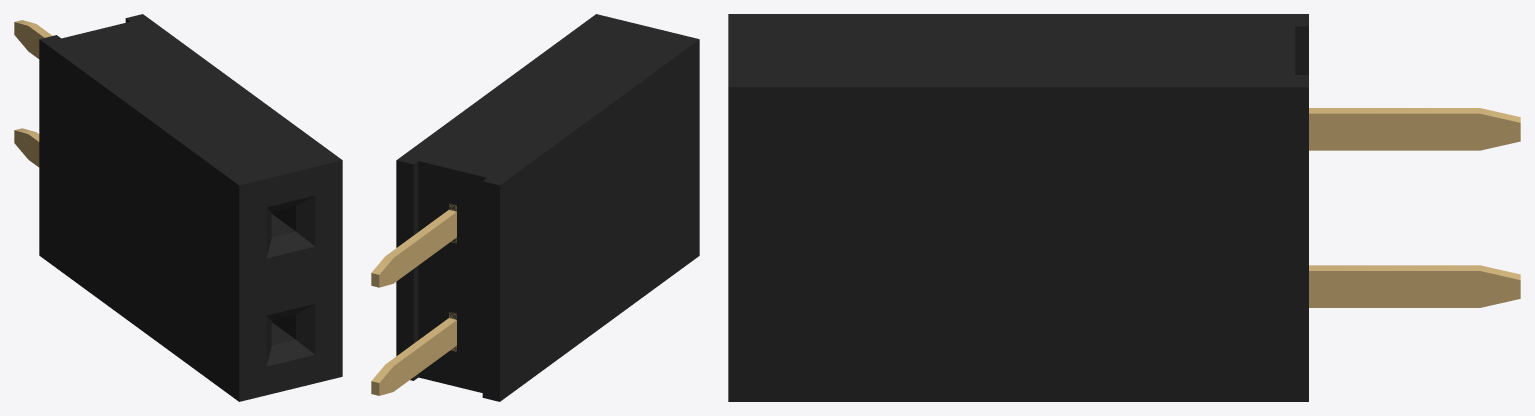
The model's file is socket-1x02.glb.
3 renders of one model, left to right at view 1: azimuth 30°, elevation 25°; view 2: azimuth 150°, elevation 25°; view 3: azimuth 270°, elevation 25°, orthographic. The views are drawn at different scales.
Parts seen in each view (by area): view 1: IC-BODY-EPOXY-04, PIN-02; view 2: IC-BODY-EPOXY-04, PIN-02; view 3: IC-BODY-EPOXY-04, PIN-02.
Boxes of the visible parts, <box> form: IC-BODY-EPOXY-04: <box>39,14,342,401</box>; PIN-02: <box>14,20,52,167</box>; IC-BODY-EPOXY-04: <box>396,14,699,401</box>; PIN-02: <box>371,203,456,395</box>; IC-BODY-EPOXY-04: <box>728,14,1308,401</box>; PIN-02: <box>1309,108,1520,307</box>.
Size of the model in its own units: 2.54 by 5.08 by 11.6.
